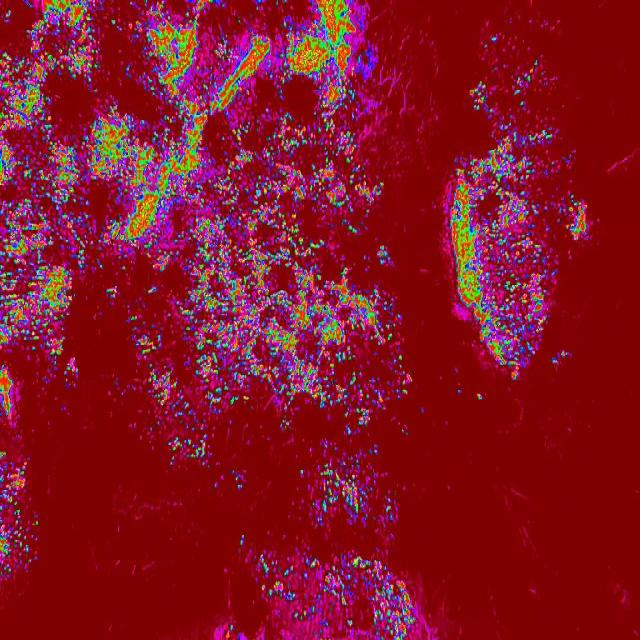fire: (0, 0, 395, 276), (121, 276, 414, 426), (441, 128, 559, 376), (245, 547, 423, 640), (304, 448, 399, 534), (0, 278, 75, 362), (0, 453, 38, 577), (168, 437, 235, 482), (0, 362, 23, 434), (562, 198, 594, 240)
